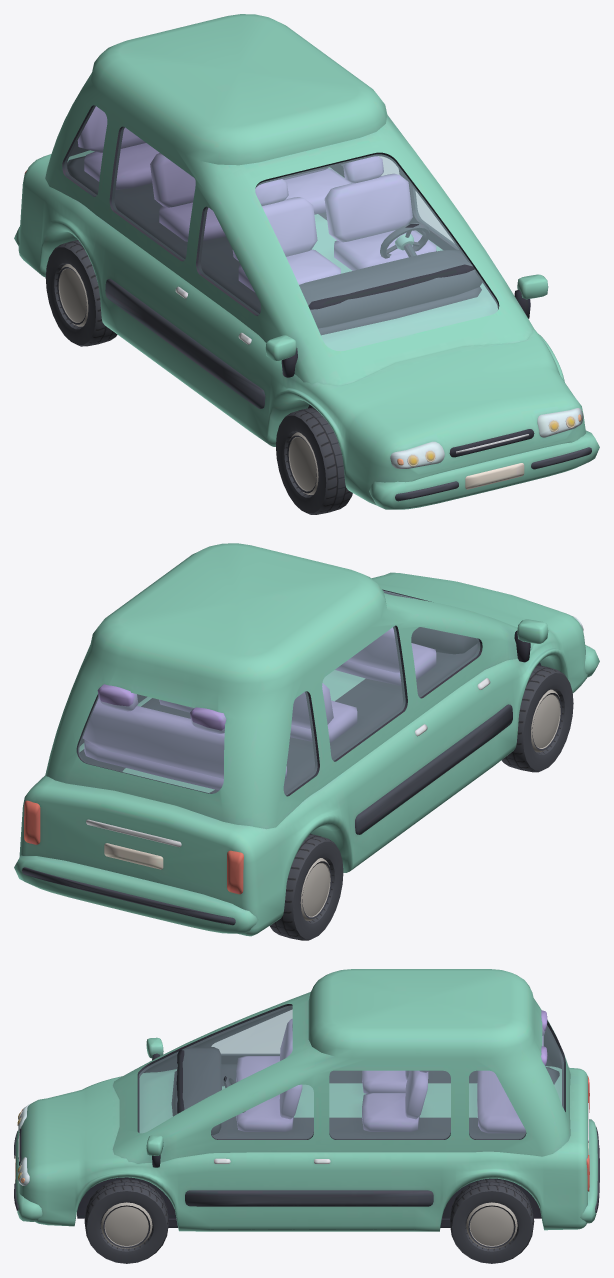
The model's file is 1990s-minivan.glb.
The picture shows the model from 3 angles, top to bottom: view 1: azimuth 30°, elevation 25°; view 2: azimuth 150°, elevation 25°; view 3: azimuth 270°, elevation 25°; orthographic projection. The views are drawn at different scales.
Parts seen in each view (by area): view 1: 1990s-minivan_body, 1990s-minivan_windows, 1990s-minivan_wheel_fr, 1990s-minivan_wheel_rr; view 2: 1990s-minivan_body, 1990s-minivan_windows, 1990s-minivan_wheel_rr, 1990s-minivan_wheel_fr; view 3: 1990s-minivan_body, 1990s-minivan_windows, 1990s-minivan_wheel_fl, 1990s-minivan_wheel_rl.
Boxes of the visible parts, <box> form: 1990s-minivan_body: <box>14,14,599,509</box>; 1990s-minivan_windows: <box>64,105,498,350</box>; 1990s-minivan_wheel_fr: <box>276,407,352,514</box>; 1990s-minivan_wheel_rr: <box>45,240,117,346</box>; 1990s-minivan_body: <box>14,543,599,936</box>; 1990s-minivan_windows: <box>78,590,479,795</box>; 1990s-minivan_wheel_rr: <box>270,834,343,940</box>; 1990s-minivan_wheel_fr: <box>501,665,573,772</box>; 1990s-minivan_body: <box>14,969,599,1231</box>; 1990s-minivan_windows: <box>139,1006,563,1138</box>; 1990s-minivan_wheel_fl: <box>84,1179,168,1263</box>; 1990s-minivan_wheel_rl: <box>449,1179,534,1263</box>.
Size of the model in its own units: 1.99 by 1.88 by 4.57.
18 materials, 5 textured.
